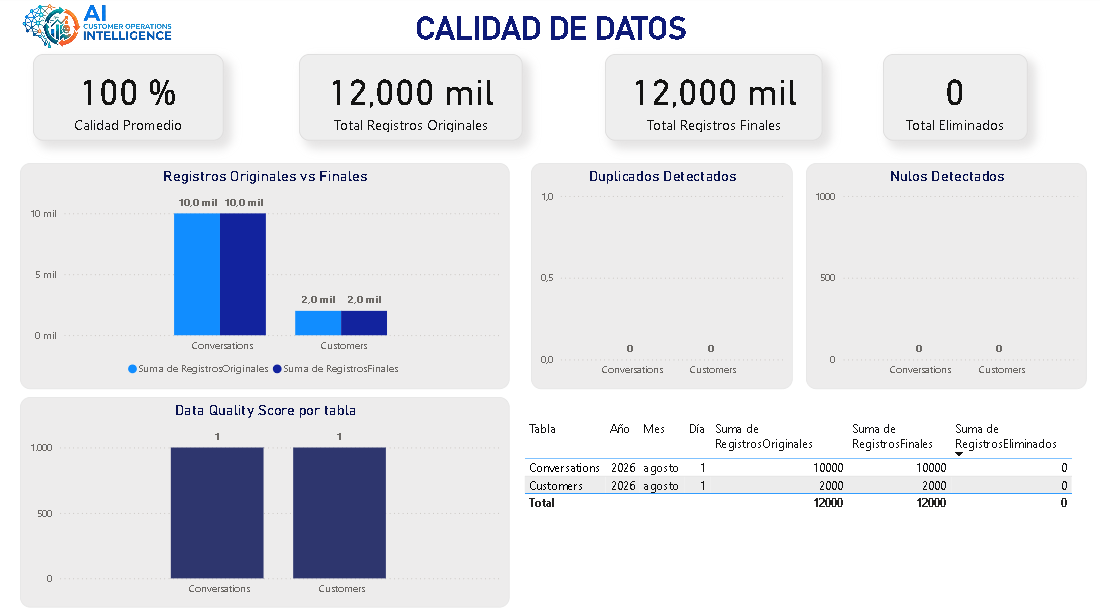

The page's visual inventory and layout, read from the dashboard file:
{"tool":"powerbi","page":{"name":" CALIDAD DE DATOS","canvas":[1280,720],"ordinal":2},"visuals":[{"type":"textbox","title":"CALIDAD DE DATOS","box":[383.9,15.8,512.2,73.2],"z":0},{"type":"columnChart","title":"Data Quality Score por tabla","fields":{"Category":["data_quality_report.Tabla"],"Y":["Sum(data_quality_report.DataQualityScore)"]},"box":[27.4,462.8,565.1,243.3],"z":1000},{"type":"clusteredColumnChart","title":"Registros Originales vs Finales","fields":{"Category":["data_quality_report.Tabla"],"Y":["Sum(data_quality_report.RegistrosOriginales)","Sum(data_quality_report.RegistrosFinales)"]},"box":[27.4,192.1,565.1,260.7],"z":2000},{"type":"columnChart","title":"Nulos Detectados","fields":{"Category":["data_quality_report.Tabla"],"Y":["Sum(data_quality_report.ValoresNulos)"]},"box":[934.4,192.1,324.4,260.7],"z":3000},{"type":"columnChart","title":"Duplicados Detectados","fields":{"Category":["data_quality_report.Tabla"],"Y":["Sum(data_quality_report.DuplicadosDetectados)"]},"box":[617.5,192.1,301.9,260.7],"z":4000},{"type":"card","fields":{"Values":["Medidas.Total Registros Finales"]},"box":[702.4,67.4,250.8,99.8],"z":5000},{"type":"card","fields":{"Values":["Medidas.Total Registros Originales"]},"box":[349.3,67.4,258.2,99.8],"z":6000},{"type":"card","fields":{"Values":["Medidas.Calidad Promedio"]},"box":[42.4,67.4,219.6,99.8],"z":7000},{"type":"card","fields":{"Values":["Medidas.Total Eliminados"]},"box":[1023,67.4,167.2,99.8],"z":8000},{"type":"tableEx","fields":{"Values":["data_quality_report.Tabla","data_quality_report.FechaEjecucion.Variación.Jerarquía de fechas.Año","data_quality_report.FechaEjecucion.Variación.Jerarquía de fechas.Mes","data_quality_report.FechaEjecucion.Variación.Jerarquía de fechas.Día","Sum(data_quality_report.RegistrosOriginales)","Sum(data_quality_report.RegistrosFinales)","Sum(data_quality_report.RegistrosEliminados)"]},"box":[607.6,484.1,662.5,144.7],"z":9000},{"type":"image","box":[0,0,232.5,67.5],"z":10000}]}

Visuals, with their boxes in screenshot pixels (x1, y1, x2, y2), scaled from the page's 1280x720 canvas onto the 1100x615 screenshot:
"CALIDAD DE DATOS" textbox: {"x1": 330, "y1": 13, "x2": 770, "y2": 76}
"Data Quality Score por tabla" columnChart: {"x1": 24, "y1": 395, "x2": 509, "y2": 603}
"Registros Originales vs Finales" clusteredColumnChart: {"x1": 24, "y1": 164, "x2": 509, "y2": 387}
"Nulos Detectados" columnChart: {"x1": 803, "y1": 164, "x2": 1082, "y2": 387}
"Duplicados Detectados" columnChart: {"x1": 531, "y1": 164, "x2": 790, "y2": 387}
card - Medidas.Total Registros Finales: {"x1": 604, "y1": 58, "x2": 819, "y2": 143}
card - Medidas.Total Registros Originales: {"x1": 300, "y1": 58, "x2": 522, "y2": 143}
card - Medidas.Calidad Promedio: {"x1": 36, "y1": 58, "x2": 225, "y2": 143}
card - Medidas.Total Eliminados: {"x1": 879, "y1": 58, "x2": 1023, "y2": 143}
tableEx - data_quality_report.Tabla x data_quality_report.FechaEjecucion.Variación.Jerarquía de fechas.Año: {"x1": 522, "y1": 414, "x2": 1091, "y2": 537}
image: {"x1": 0, "y1": 0, "x2": 200, "y2": 58}
